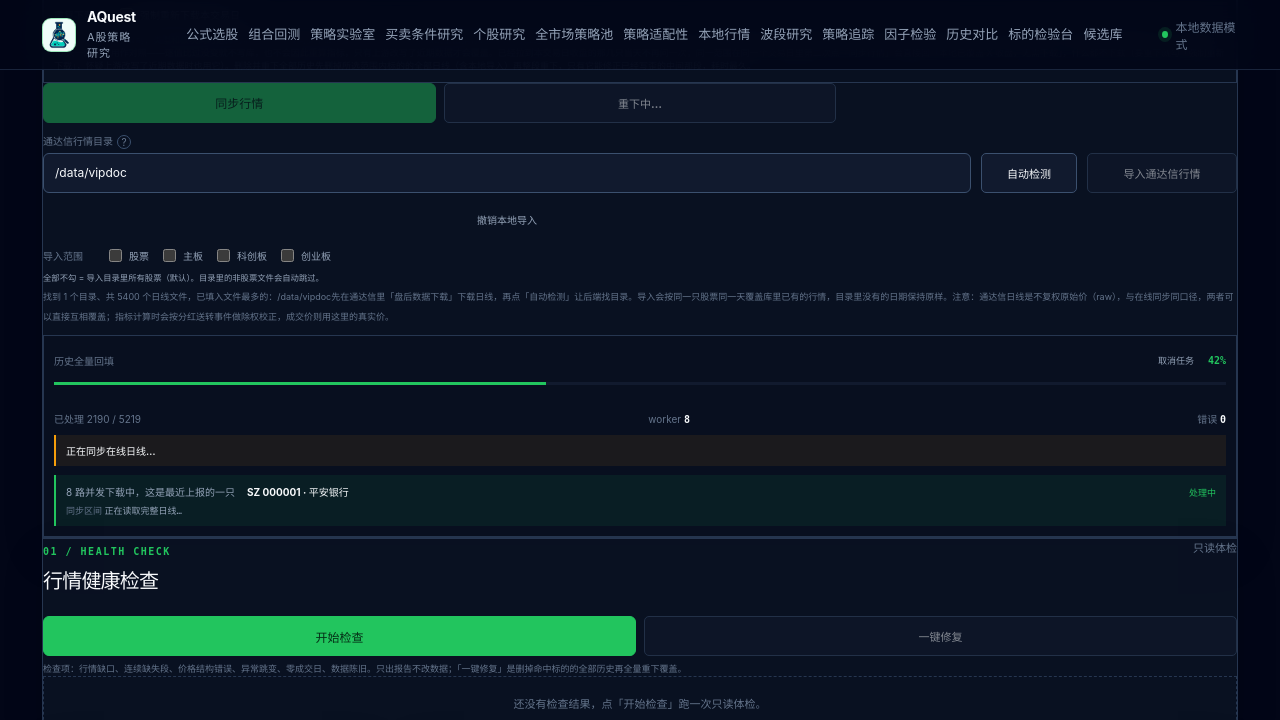
MarketDataPage › restores active market-data jobs and allows cancelling one
(page scrolled)
Expected: the element with test id "market-data-progress" shows "42%", [1208,355,1226,366]
Expected: the element with test id "market-data-progress" shows "SZ 000001 · 平安银行", [247,486,349,498]
Click the button with test id "market-sync-cancel".
click(1176, 360)  # box [1150,346,1202,374]
(page scrolled)
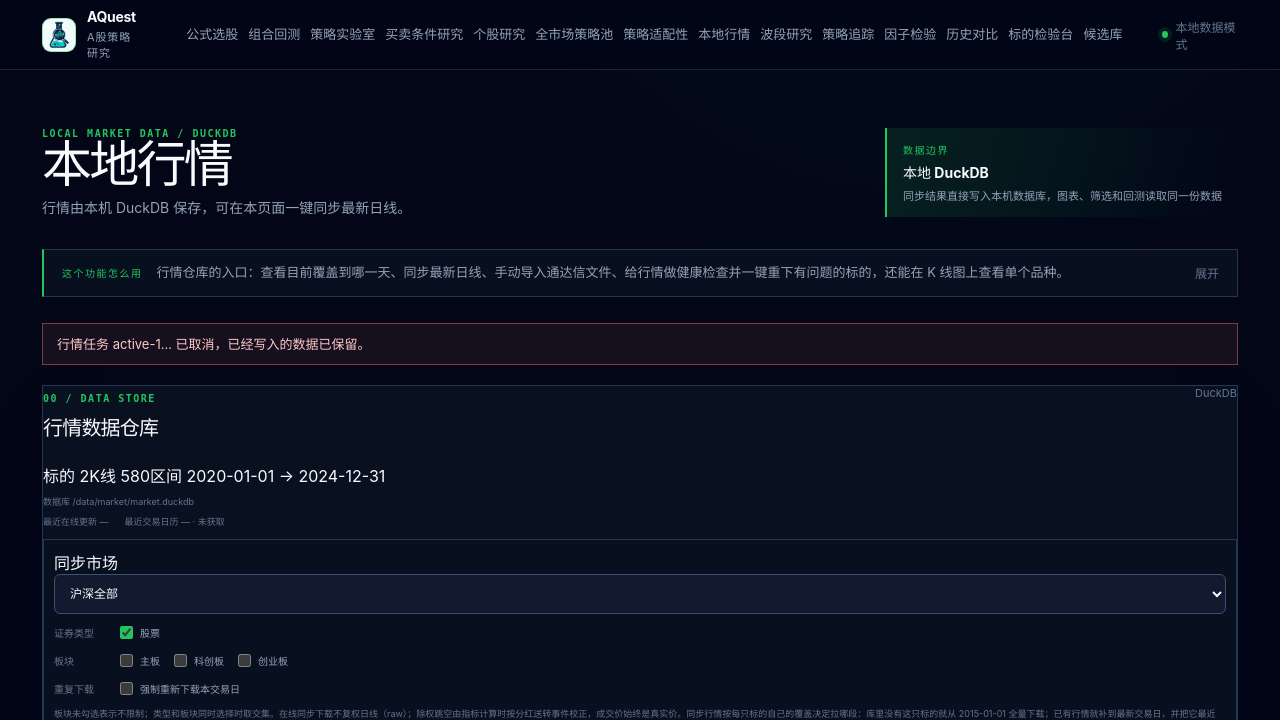
Expected: the message with test id "market-data-message" shows "已取消", [57,336,371,352]
